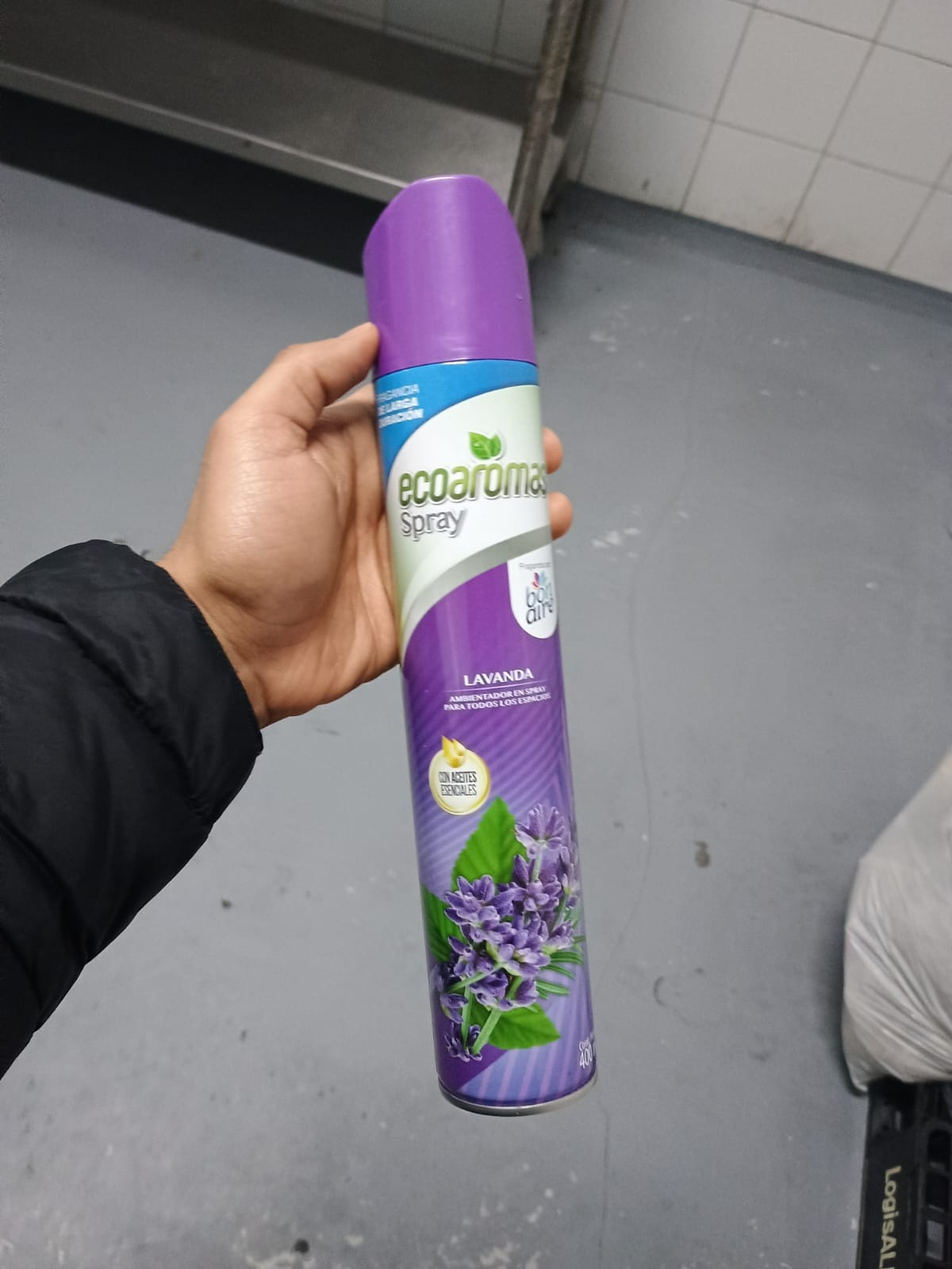Metal: (375, 359, 604, 1119)
Plastico: (361, 177, 545, 349)
